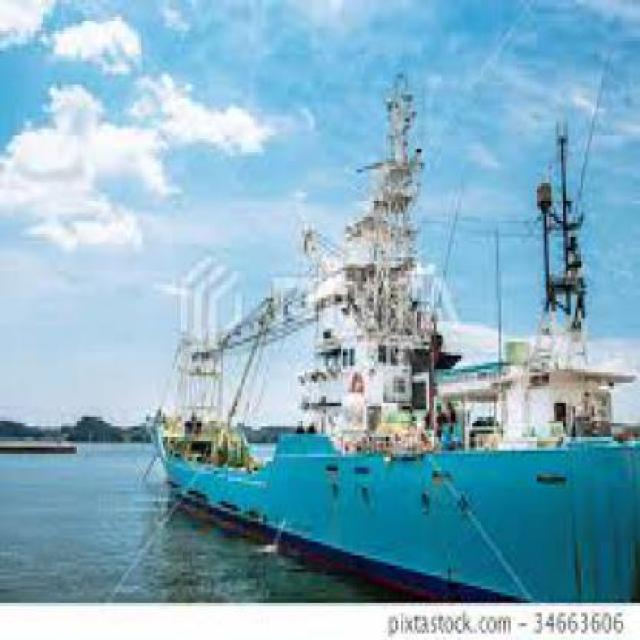fish-b: (145, 69, 639, 621)
